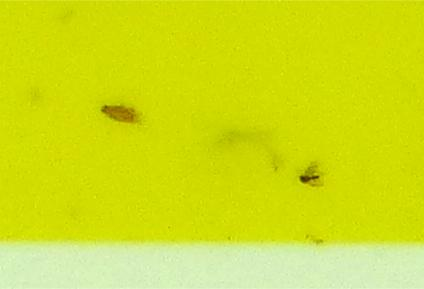Brachycera: (296, 164, 324, 189)
Trichoptera: (100, 100, 138, 125)
